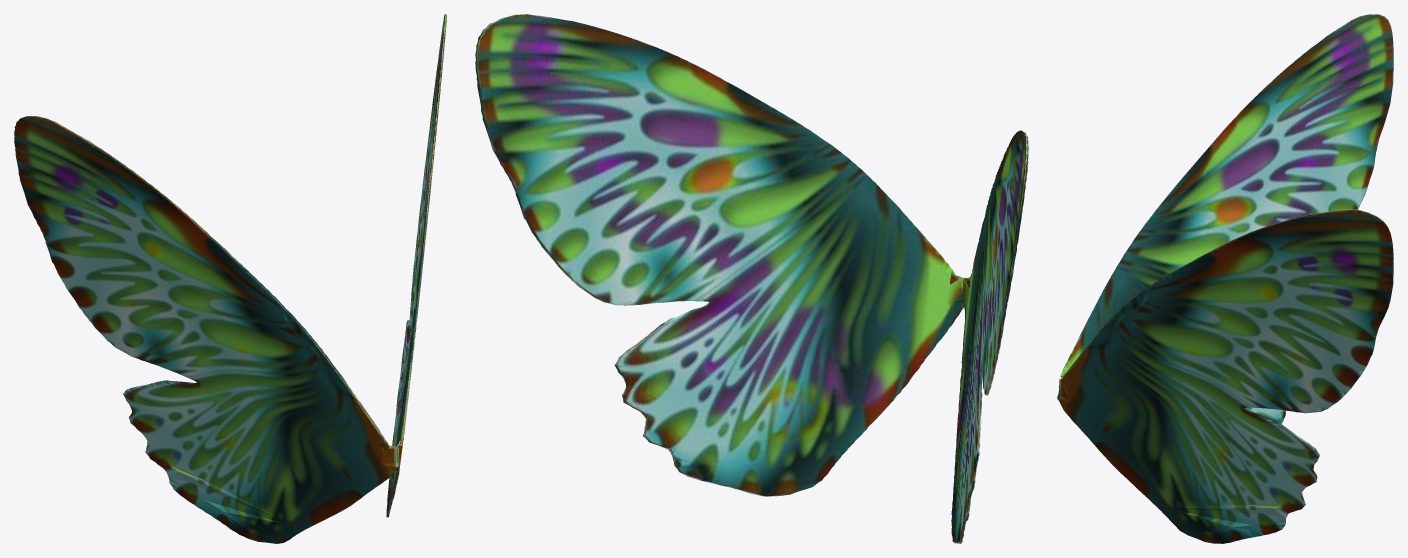
The model's file is mhw_elvs_static_wings3_butterfly1.glb.
The picture shows the model from 3 angles, left to right: view 1: azimuth 30°, elevation 25°; view 2: azimuth 150°, elevation 25°; view 3: azimuth 270°, elevation 25°; orthographic projection. The views are drawn at different scales.
Visible parts, largest first — view 1: mhw_elvs_static_wings3_butterfly1; view 2: mhw_elvs_static_wings3_butterfly1; view 3: mhw_elvs_static_wings3_butterfly1.
Part boxes in pixels (x1,y1,x2,y2): mhw_elvs_static_wings3_butterfly1: (14, 14, 446, 543); mhw_elvs_static_wings3_butterfly1: (475, 14, 1028, 543); mhw_elvs_static_wings3_butterfly1: (1057, 14, 1393, 543).
Bounding box in the file's own units: 1.22 × 1.08 × 0.8332.
1 material, 1 textured.
